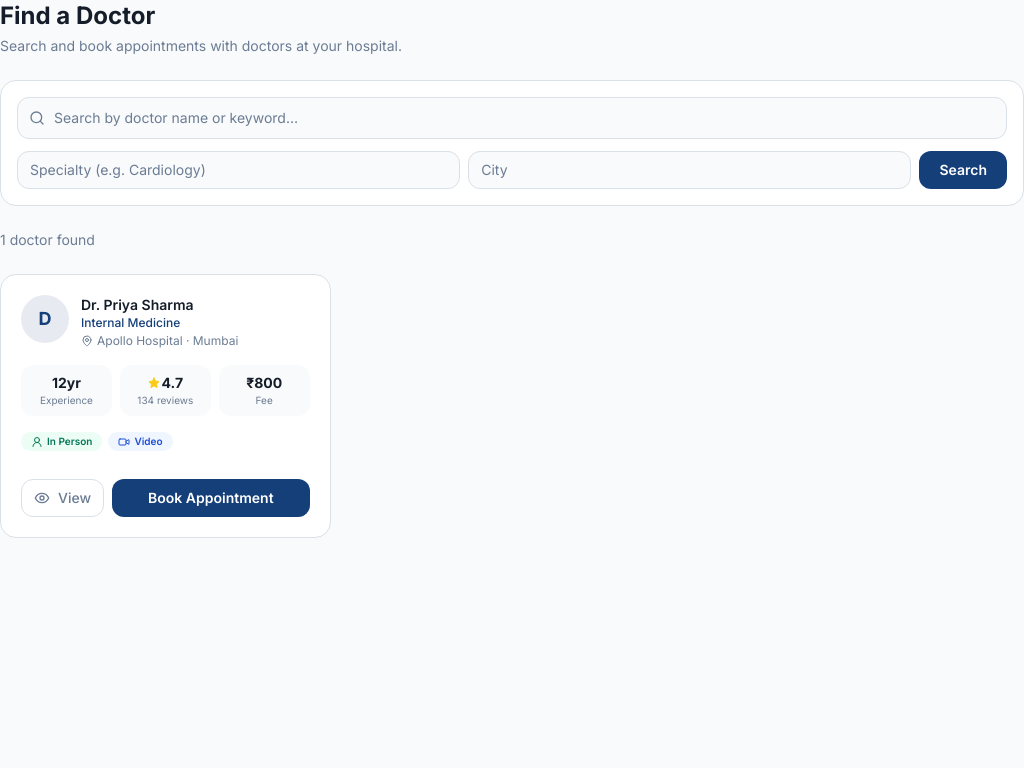
it: FindDoctorPage › shows no slots message when no availability
Expected: the text "Dr. Priya Sharma" is shown, [81,296,194,313]
Click the button "Book Appointment" at (211, 498), box [112,479,310,517]
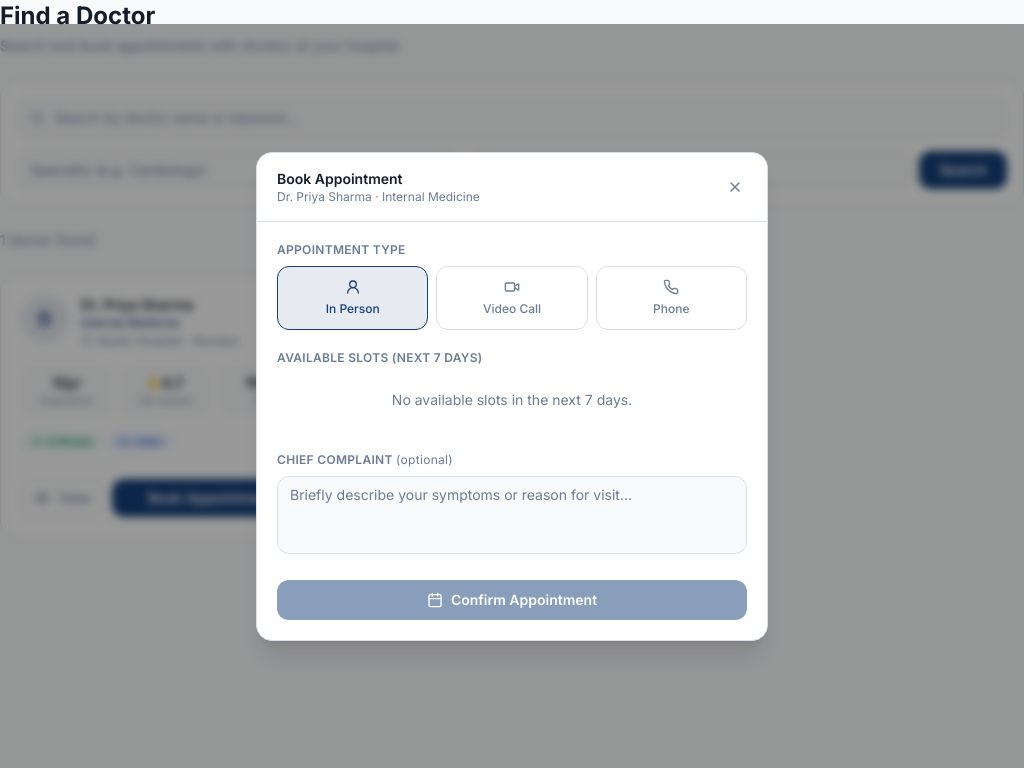
Expected: the text "No available slots in the next 7 days." is shown, [392,390,632,408]
